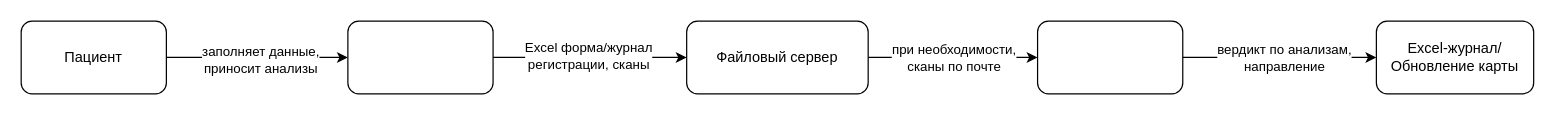
The diagram is 1555 pixels wide and 115 high, and some of its shapes have lost their labels. Each missing label, with the centre of its shape:
"Медицинские специалисты" belongs at pixel 1109 57.
"Ресепшен" belongs at pixel 420 57.
